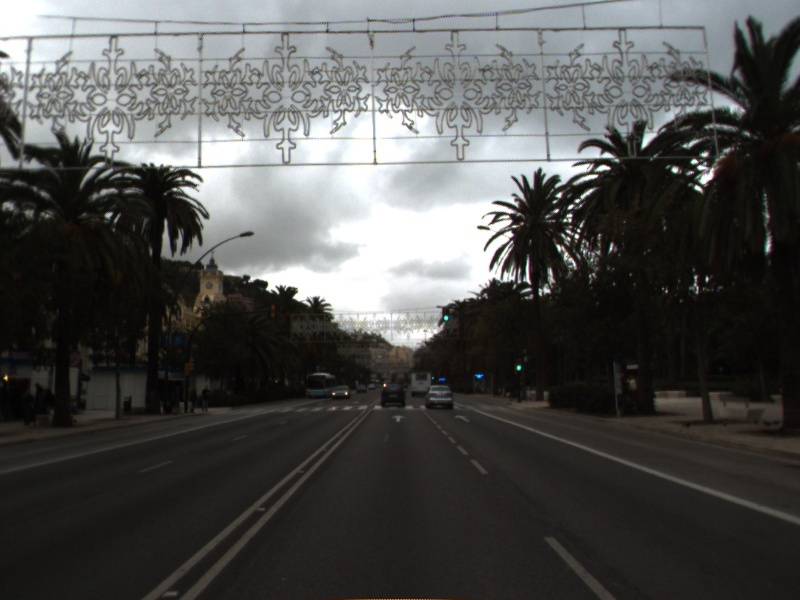STRAIGHT: (453, 412, 473, 425), (389, 412, 408, 424)
